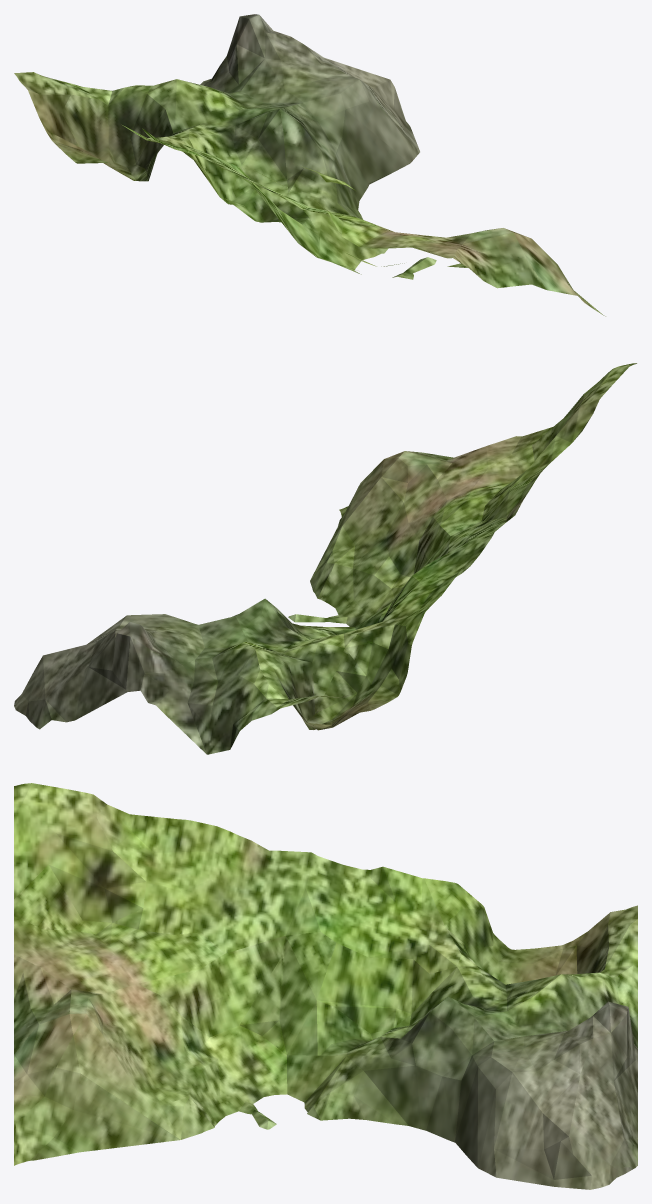
The picture shows the model from 3 angles, top to bottom: view 1: azimuth 30°, elevation 25°; view 2: azimuth 150°, elevation 25°; view 3: azimuth 270°, elevation 25°; orthographic projection. The views are drawn at different scales.
Bounding box in the file's own units: 1.96 × 1.21 × 2.95.
2 materials, 2 textured.
